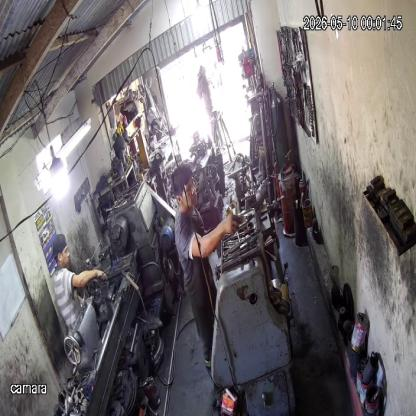sin_lentes: (184, 178, 199, 196)
